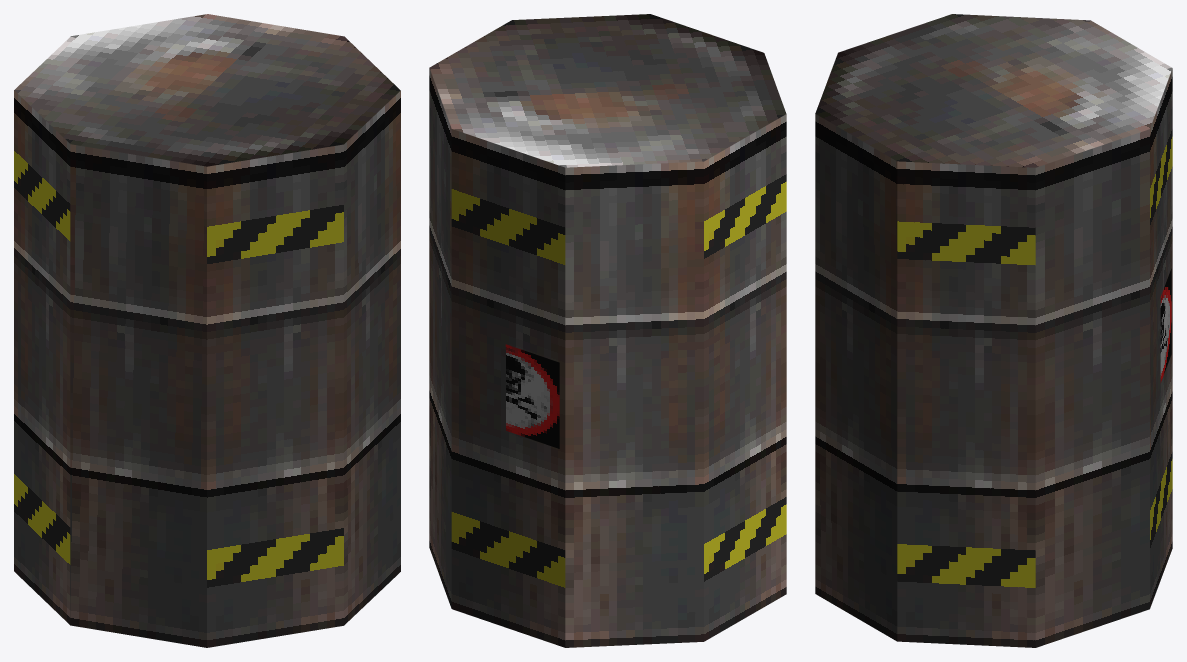
File: dam_explosive_barrel_5.glb
3 views of the same model, side by side, from view 1: azimuth 30°, elevation 25°; view 2: azimuth 150°, elevation 25°; view 3: azimuth 270°, elevation 25° (orthographic).
Visible parts, largest first — view 1: Object; view 2: Object; view 3: Object.
Boxes of the visible parts, x1=… form: Object: x1=14, y1=14, x2=400, y2=647; Object: x1=429, y1=14, x2=786, y2=647; Object: x1=815, y1=14, x2=1172, y2=647.
Bounding box in the file's own units: 0.6983 × 1.02 × 0.6858.
9 materials, 9 textured.
